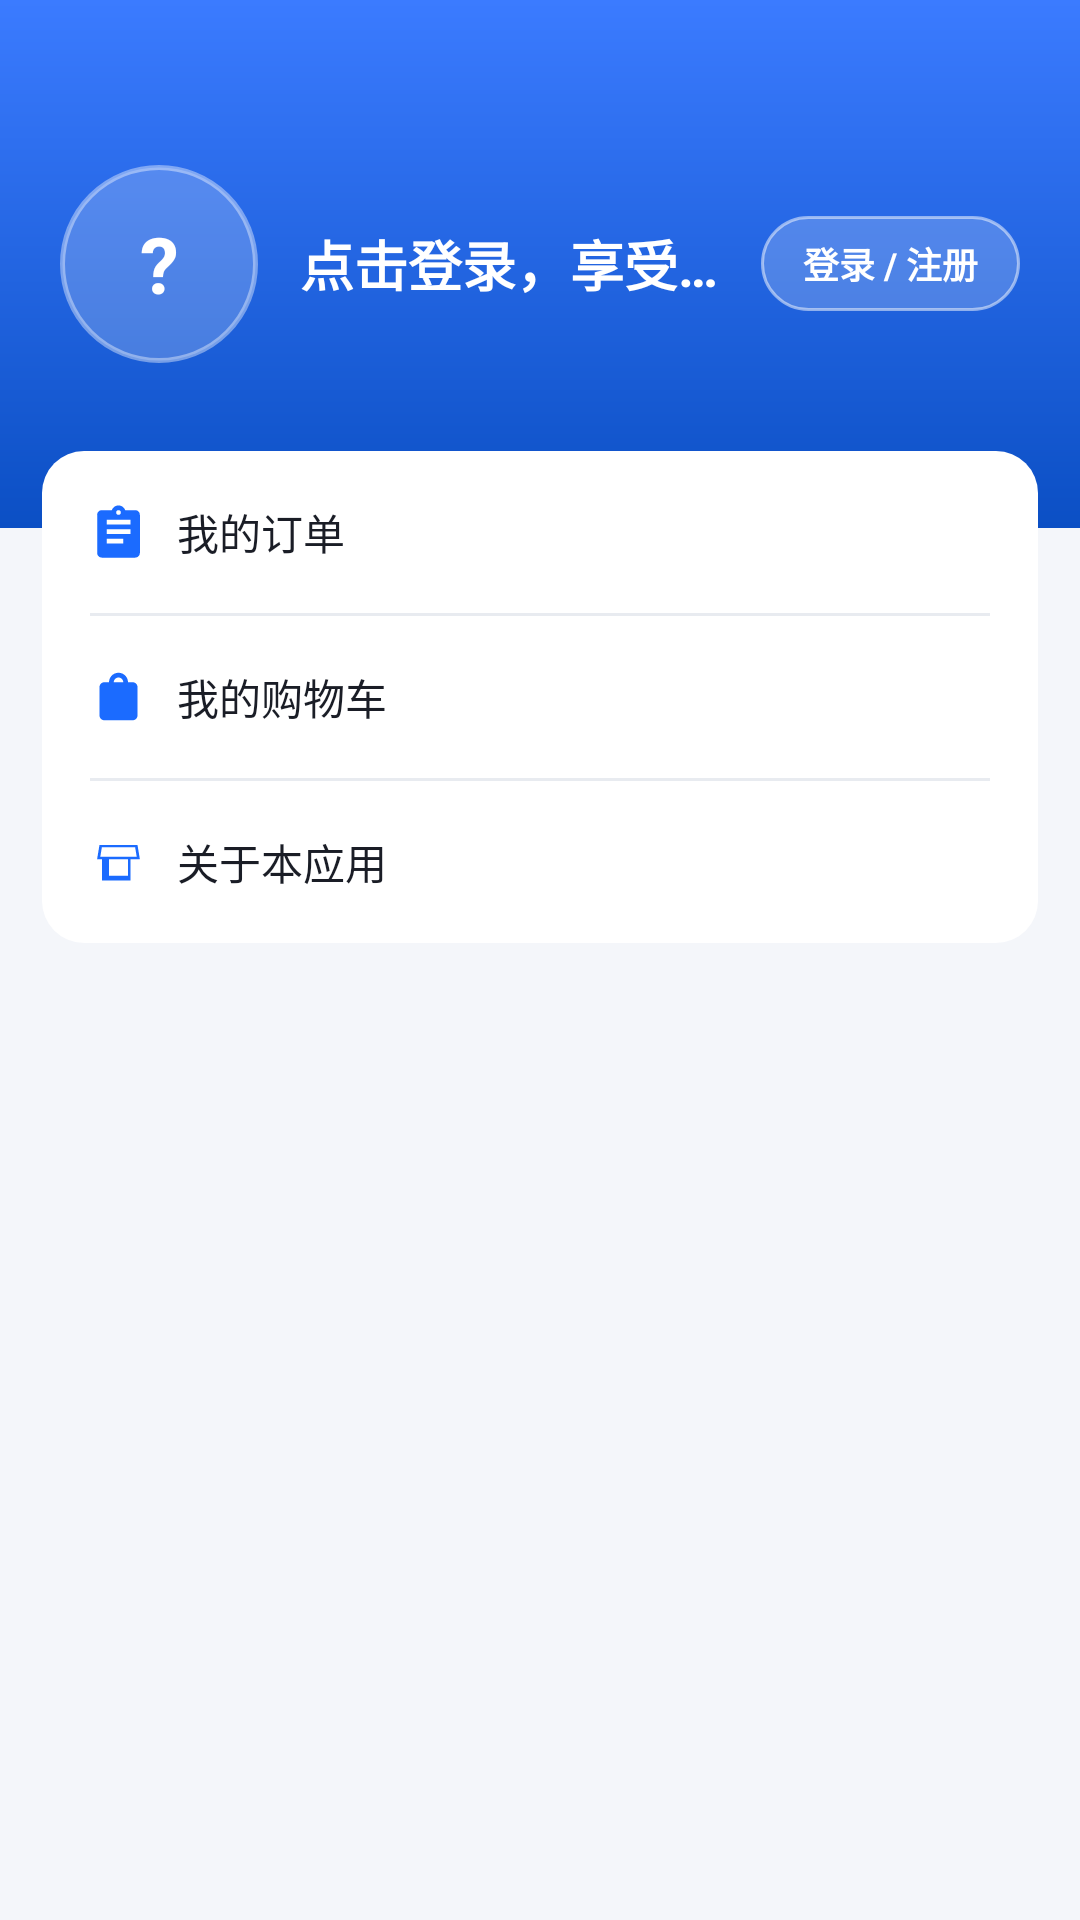

Named icons in this screenshot (1080*1920) and their centers, (x=x, y=y):
cart: (x=118, y=696)
order: (x=118, y=531)
store: (x=118, y=863)
